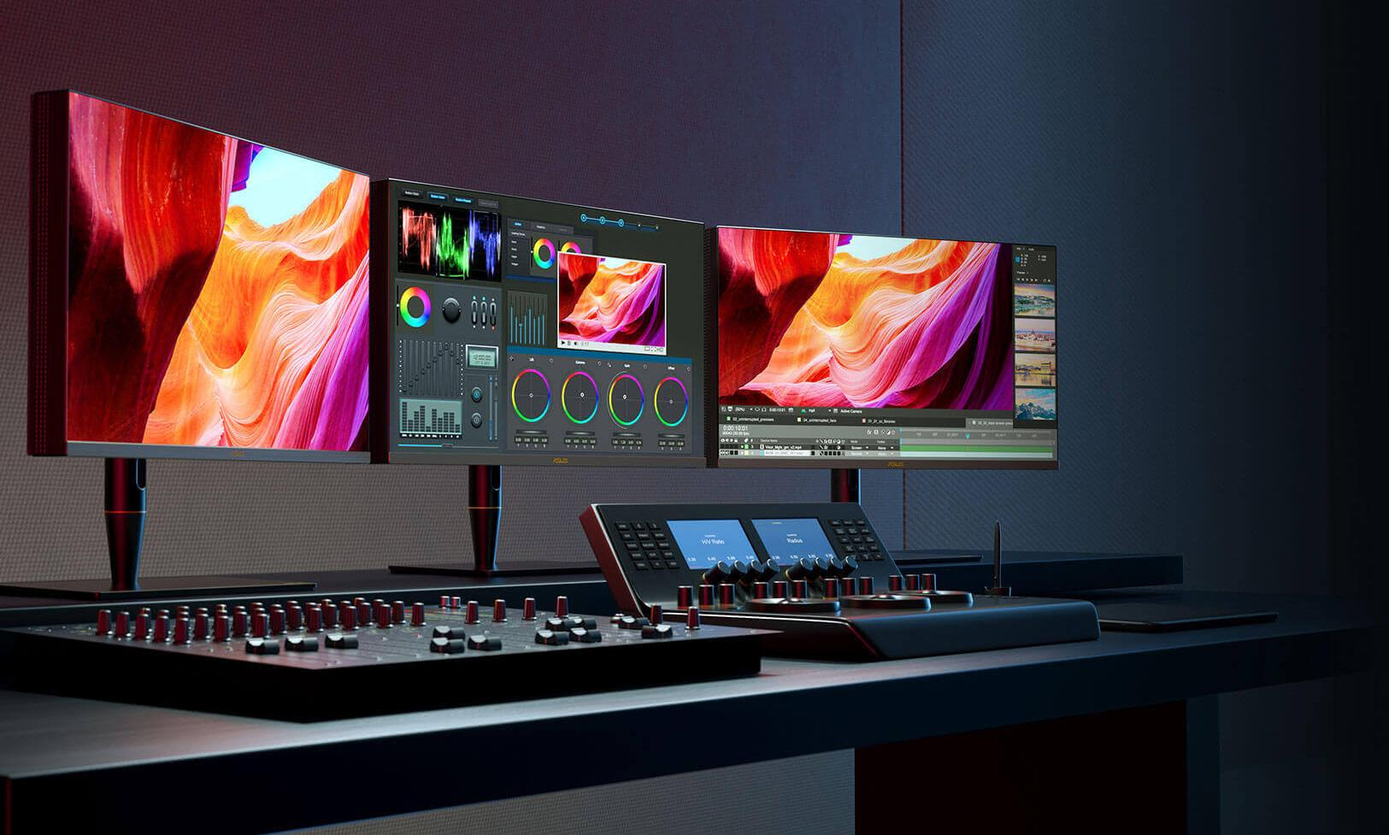monitor: (1, 85, 374, 592), (372, 171, 707, 586), (715, 223, 1064, 568)
